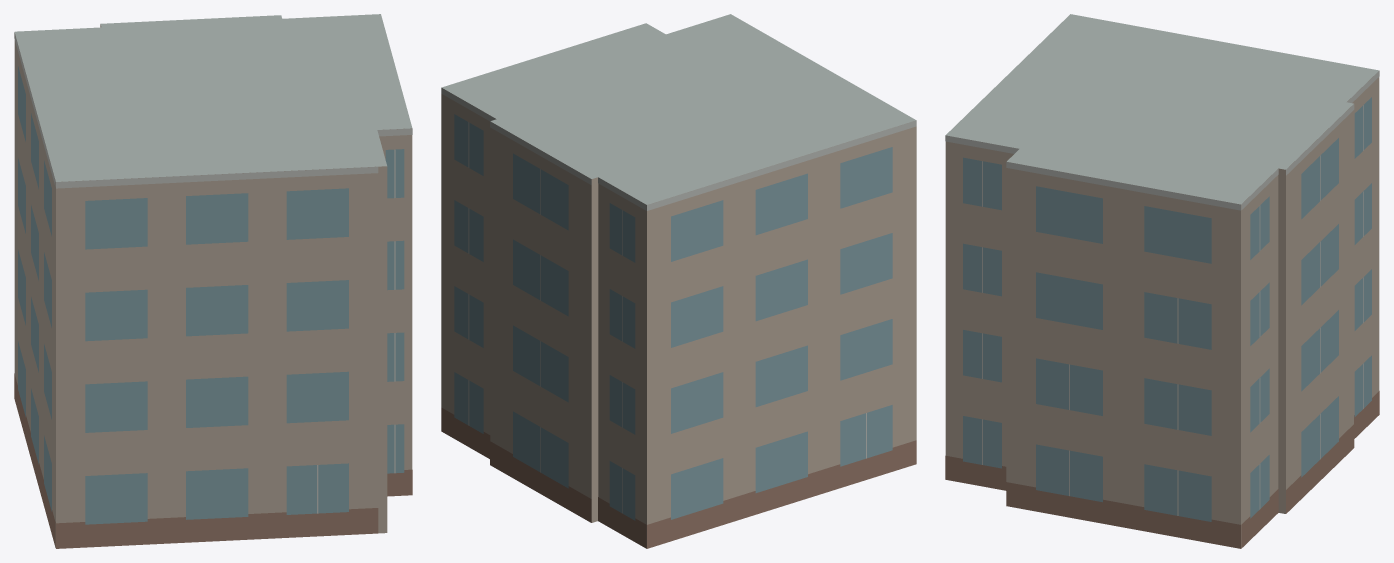
Rendered from survey-upis-32532892.glb.
The picture shows the model from 3 angles, left to right: view 1: azimuth 30°, elevation 25°; view 2: azimuth 150°, elevation 25°; view 3: azimuth 270°, elevation 25°; orthographic projection. The views are drawn at different scales.
Visible parts, largest first — view 1: survey-upis-32532892.tmp; view 2: survey-upis-32532892.tmp; view 3: survey-upis-32532892.tmp.
Part boxes in pixels (x1,y1,x2,y2): survey-upis-32532892.tmp: [14, 14, 412, 548]; survey-upis-32532892.tmp: [441, 14, 916, 548]; survey-upis-32532892.tmp: [945, 14, 1379, 548].
Bounding box in the file's own units: 16.27 × 13.7 × 15.65.
